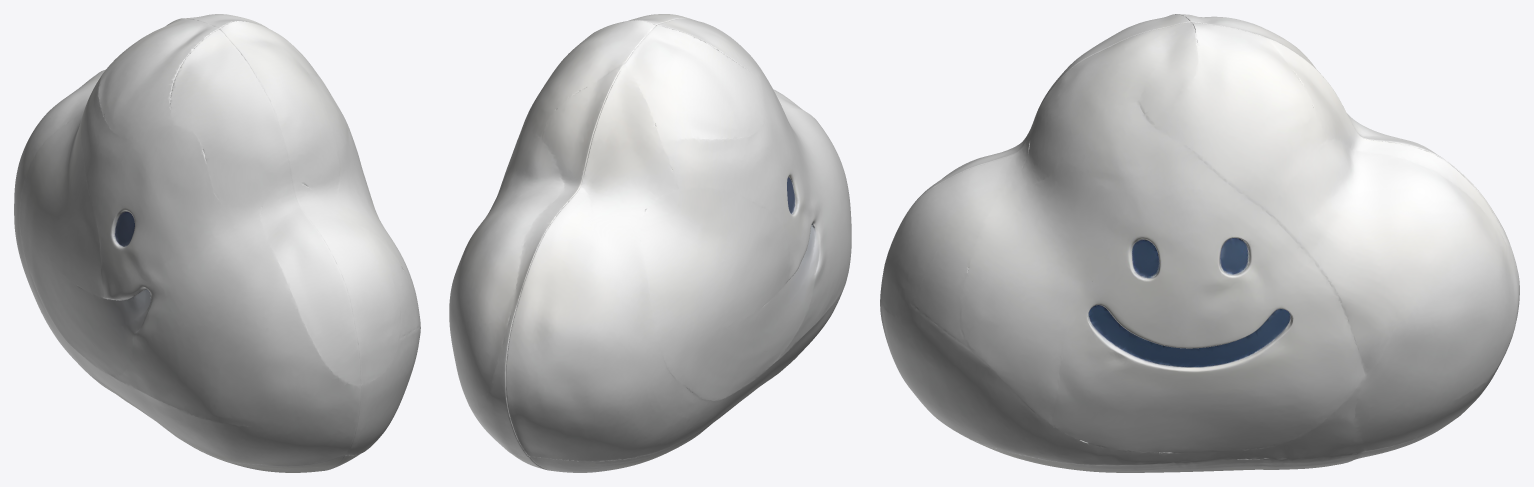
Rendered from Cushion.fbx.
3 views of the same model, side by side, from view 1: azimuth 30°, elevation 25°; view 2: azimuth 150°, elevation 25°; view 3: azimuth 270°, elevation 25° (orthographic). The views are drawn at different scales.
Parts seen in each view (by area): view 1: tripo_node_634e890e; view 2: tripo_node_634e890e; view 3: tripo_node_634e890e.
Part boxes in pixels (x1=…): tripo_node_634e890e: x1=14, y1=14, x2=420, y2=472; tripo_node_634e890e: x1=449, y1=14, x2=851, y2=472; tripo_node_634e890e: x1=880, y1=14, x2=1519, y2=472.
Bounding box in the file's own units: 49.6 × 97.96 × 73.23.
Materials: 1 (1 with a texture image).
